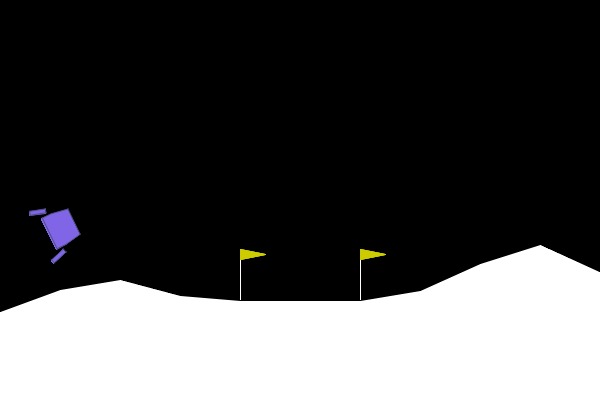lander: (26, 194, 88, 266)
